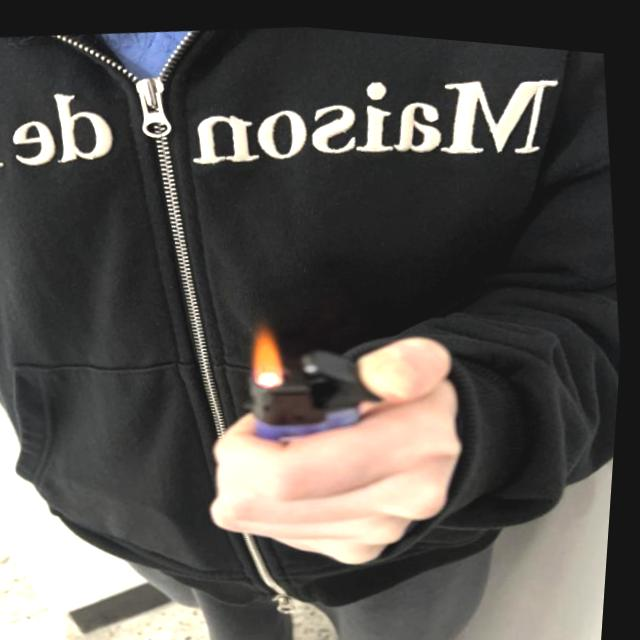Fire: (252, 318, 292, 381)
